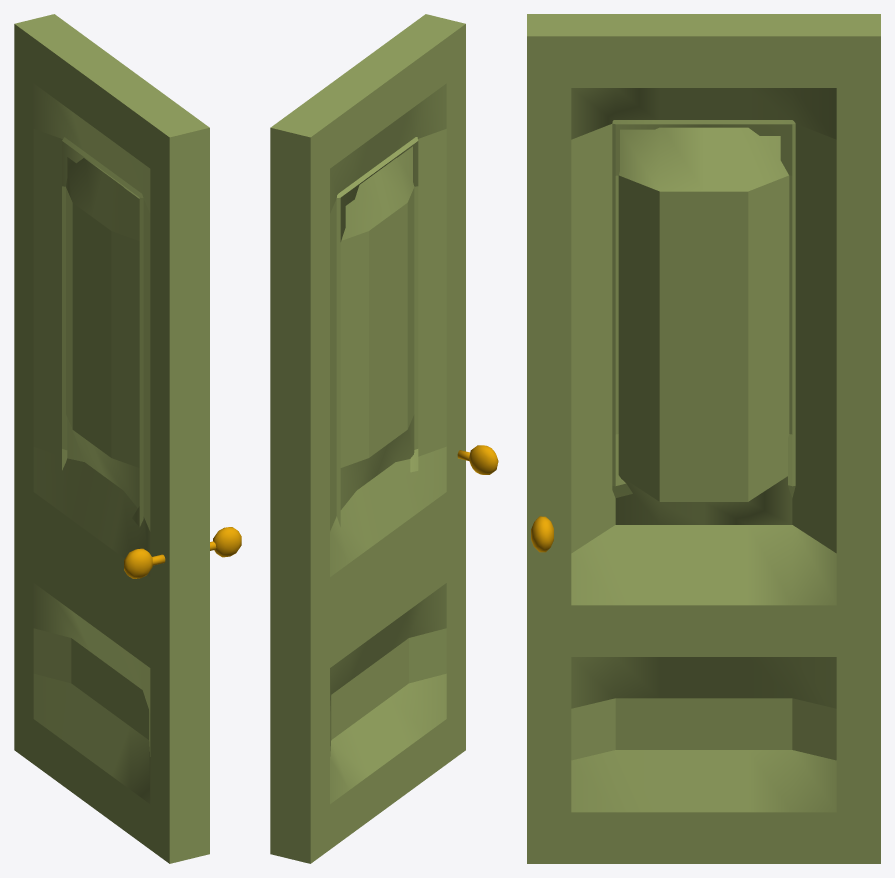
Rendered from door2.fbx.
The picture shows the model from 3 angles, left to right: view 1: azimuth 30°, elevation 25°; view 2: azimuth 150°, elevation 25°; view 3: azimuth 270°, elevation 25°; orthographic projection. The views are drawn at different scales.
Visible parts, largest first — view 1: Cube, Икосфера.001, Икосфера; view 2: Cube, Икосфера.001; view 3: Cube, Икосфера.
Part boxes in pixels (x1,y1,x2,y2): Cube: (14, 14, 209, 863); Икосфера.001: (124, 548, 165, 578); Икосфера: (210, 527, 241, 557); Cube: (270, 14, 465, 863); Икосфера.001: (457, 445, 498, 474); Cube: (527, 14, 880, 863); Икосфера: (531, 516, 553, 552).
Size of the model in its own units: 142 by 837 by 325.
